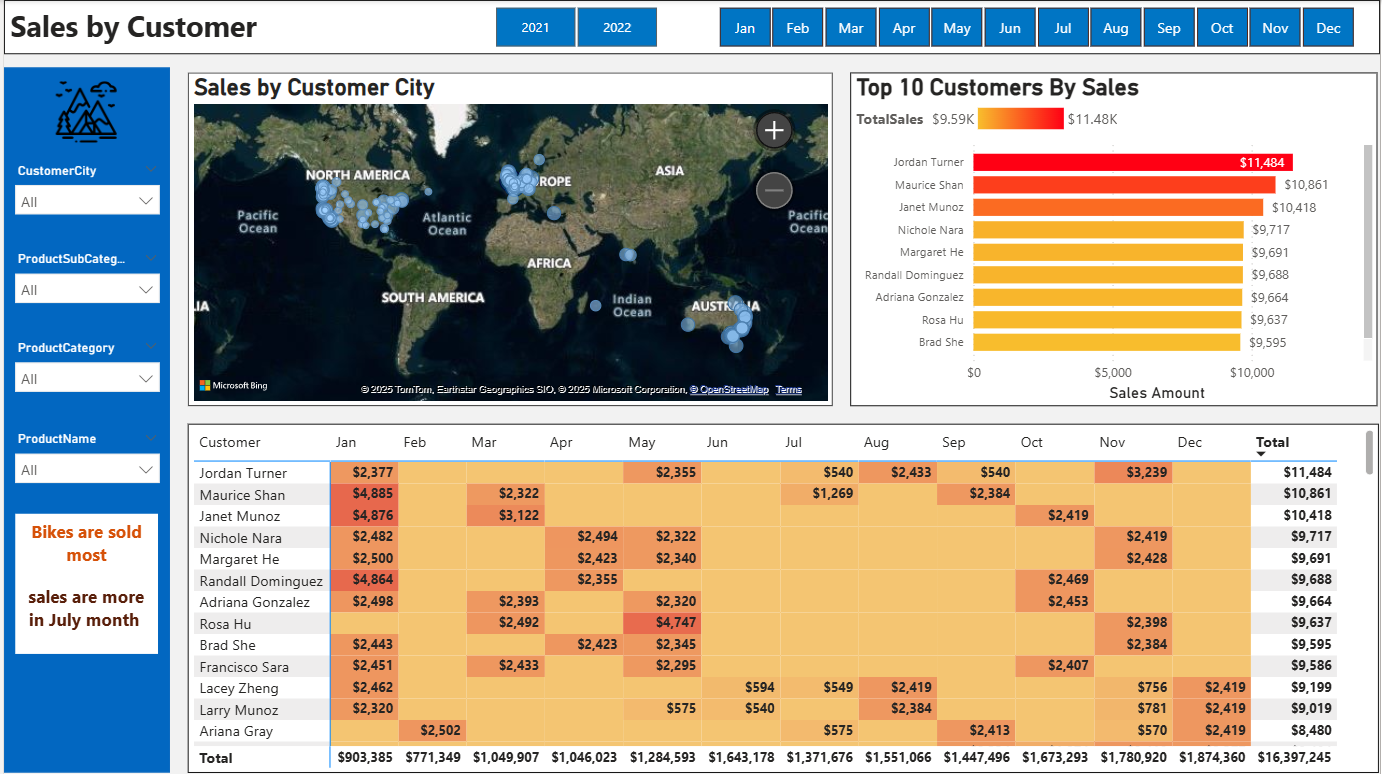

What the dashboard file says about the page in this screenshot:
{"tool":"powerbi","page":{"name":"Sales by Customer","canvas":[1280,720],"ordinal":1},"visuals":[{"type":"textbox","box":[0,0,1280.2,50],"z":0},{"type":"barChart","title":"Top 10 Customers By Sales","fields":{"Y":["Key Measures.TotalSales"],"Category":["DimCustomer.Full Name"]},"box":[787.5,67.5,490,310],"z":7000},{"type":"map","title":"Sales by Customer City","fields":{"Category":["DimCustomer.CustomerCity"],"Size":["Key Measures.TotalSales"]},"box":[171,67.5,600,310],"z":8000},{"type":"pivotTable","fields":{"Rows":["DimCustomer.Full Name"],"Columns":["DimDate.MonthShort"],"Values":["Key Measures.TotalSales"]},"box":[170.9,394.2,1108.1,324.4],"z":9000},{"type":"shape","box":[0,62.8,154.7,655.8],"z":9001},{"type":"slicer","fields":{"Values":["DimProduct.ProductName"]},"box":[0,396.5,154.7,64],"z":9002},{"type":"textbox","box":[10.5,477.9,132.6,130.2],"z":9003},{"type":"slicer","fields":{"Values":["DimProduct.ProductCategory"]},"box":[0,311.6,154.7,64],"z":9004},{"type":"slicer","fields":{"Values":["DimCustomer.CustomerCity"]},"box":[0,146.5,154.7,64],"z":9005},{"type":"slicer","fields":{"Values":["DimProduct.ProductSubCategory"]},"box":[0,229.1,154.7,64],"z":9006},{"type":"image","box":[10.5,70.9,132.6,66.3],"z":9007},{"type":"slicer","fields":{"Values":["DimDate.Year"]},"box":[431,0,200,50],"z":9008},{"type":"slicer","fields":{"Values":["DimDate.MonthShort"]},"box":[640,0,640,50],"z":9009}]}

Visuals, with their boxes in screenshot pixels (x1, y1, x2, y2), scaled from the page's 1280x720 canvas onto the 1382x774 screenshot:
textbox: box=[0, 0, 1381, 54]
"Top 10 Customers By Sales" barChart: box=[850, 73, 1379, 406]
"Sales by Customer City" map: box=[185, 73, 832, 406]
pivotTable - DimCustomer.Full Name x DimDate.MonthShort: box=[185, 424, 1381, 772]
shape: box=[0, 68, 167, 772]
slicer - DimProduct.ProductName: box=[0, 426, 167, 495]
textbox: box=[11, 514, 155, 654]
slicer - DimProduct.ProductCategory: box=[0, 335, 167, 404]
slicer - DimCustomer.CustomerCity: box=[0, 157, 167, 226]
slicer - DimProduct.ProductSubCategory: box=[0, 246, 167, 315]
image: box=[11, 76, 155, 147]
slicer - DimDate.Year: box=[465, 0, 681, 54]
slicer - DimDate.MonthShort: box=[691, 0, 1381, 54]
